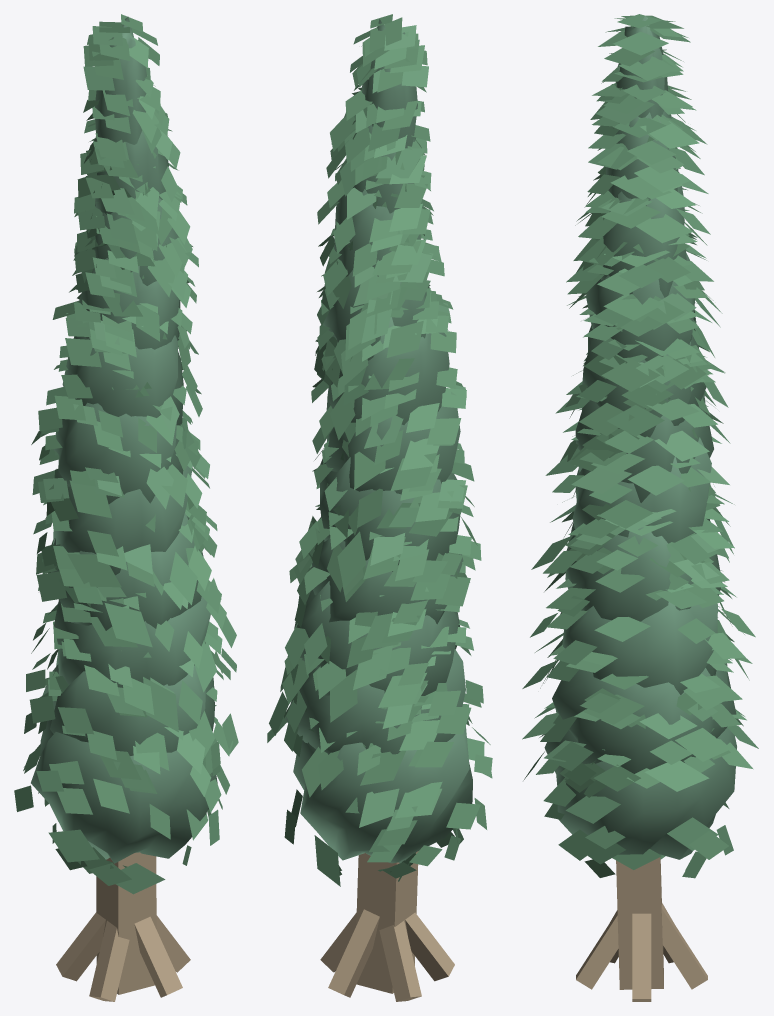
File: cypress.glb
3 views of the same model, side by side, from view 1: azimuth 30°, elevation 25°; view 2: azimuth 150°, elevation 25°; view 3: azimuth 270°, elevation 25° (orthographic).
Visible parts, largest first — view 1: SourceMesh_00017, SourceMesh_00006, SourceMesh_00008, SourceMesh_00012, SourceMesh_00011, SourceMesh_00010, SourceMesh_00007, SourceMesh_00000, SourceMesh_00009, SourceMesh_00013, SourceMesh_00016, SourceMesh_00003 (+5 smaller); view 2: SourceMesh_00017, SourceMesh_00006, SourceMesh_00007, SourceMesh_00008, SourceMesh_00000, SourceMesh_00012, SourceMesh_00010, SourceMesh_00011, SourceMesh_00009, SourceMesh_00004, SourceMesh_00005, SourceMesh_00014 (+5 smaller); view 3: SourceMesh_00017, SourceMesh_00006, SourceMesh_00007, SourceMesh_00008, SourceMesh_00009, SourceMesh_00000, SourceMesh_00010, SourceMesh_00013, SourceMesh_00011, SourceMesh_00014, SourceMesh_00012, SourceMesh_00001 (+4 smaller).
Boxes of the visible parts, <box> form: SourceMesh_00017: <box>14,14,238,894</box>; SourceMesh_00006: <box>31,720,217,863</box>; SourceMesh_00008: <box>54,596,210,687</box>; SourceMesh_00012: <box>62,335,183,425</box>; SourceMesh_00011: <box>53,402,183,504</box>; SourceMesh_00010: <box>53,466,192,575</box>; SourceMesh_00007: <box>42,664,214,755</box>; SourceMesh_00000: <box>96,852,156,994</box>; SourceMesh_00009: <box>51,513,203,630</box>; SourceMesh_00013: <box>79,258,180,349</box>; SourceMesh_00016: <box>95,16,146,144</box>; SourceMesh_00003: <box>89,920,129,1001</box>; SourceMesh_00017: <box>267,14,492,886</box>; SourceMesh_00006: <box>293,726,472,863</box>; SourceMesh_00007: <box>285,649,465,754</box>; SourceMesh_00008: <box>294,581,459,695</box>; SourceMesh_00000: <box>356,851,418,993</box>; SourceMesh_00012: <box>327,317,449,424</box>; SourceMesh_00010: <box>320,457,460,571</box>; SourceMesh_00011: <box>325,398,460,494</box>; SourceMesh_00009: <box>311,517,463,624</box>; SourceMesh_00004: <box>379,920,421,1001</box>; SourceMesh_00005: <box>328,909,379,997</box>; SourceMesh_00014: <box>333,189,420,276</box>; SourceMesh_00017: <box>522,14,758,878</box>; SourceMesh_00006: <box>544,727,736,859</box>; SourceMesh_00007: <box>552,663,736,773</box>; SourceMesh_00008: <box>562,602,717,694</box>; SourceMesh_00009: <box>565,522,722,621</box>; SourceMesh_00000: <box>616,857,663,989</box>; SourceMesh_00010: <box>572,437,711,543</box>; SourceMesh_00013: <box>586,252,695,361</box>; SourceMesh_00011: <box>575,393,713,502</box>; SourceMesh_00014: <box>599,186,686,297</box>; SourceMesh_00012: <box>582,318,706,437</box>; SourceMesh_00001: <box>632,913,651,1001</box>.
Bounding box in the file's own units: 1.09 × 5.08 × 1.13.
